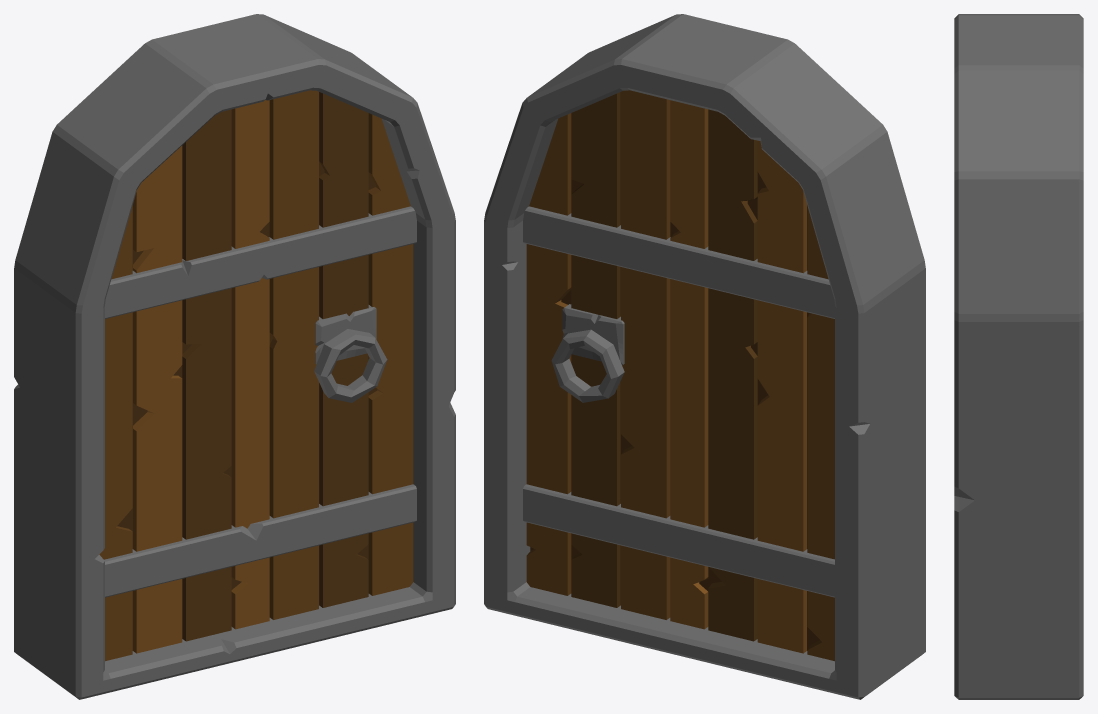
Rendered from Door.fbx.
The picture shows the model from 3 angles, left to right: view 1: azimuth 30°, elevation 25°; view 2: azimuth 150°, elevation 25°; view 3: azimuth 270°, elevation 25°; orthographic projection. The views are drawn at different scales.
Visible parts, largest first — view 1: Puerta; view 2: Puerta; view 3: Puerta.
Boxes of the visible parts, <box> form: Puerta: <box>14,14,455,699</box>; Puerta: <box>484,14,925,699</box>; Puerta: <box>954,14,1083,699</box>.
Size of the model in its own units: 200 by 293 by 60.
